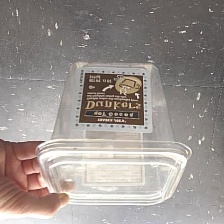plastic_box: (28, 54, 198, 214)
